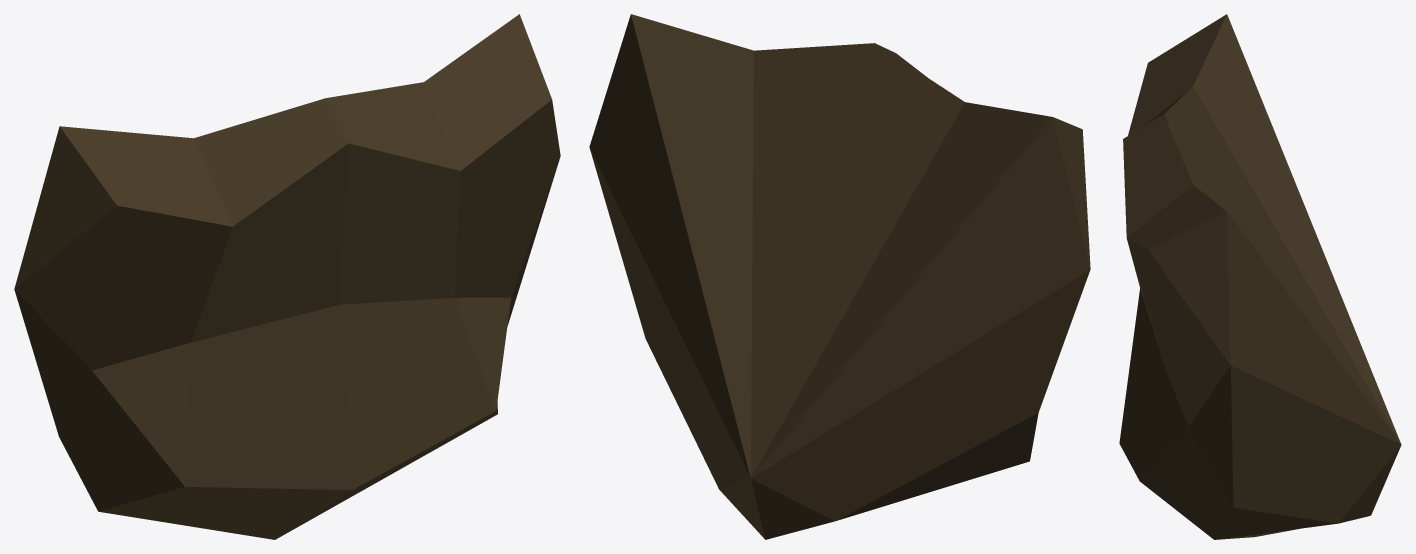
Rendered from Chr_FacialHair_Male_07_Static.fbx.
The picture shows the model from 3 angles, left to right: view 1: azimuth 30°, elevation 25°; view 2: azimuth 150°, elevation 25°; view 3: azimuth 270°, elevation 25°; orthographic projection. The views are drawn at different scales.
Parts seen in each view (by area): view 1: Chr_FacialHair_Male_07_Static; view 2: Chr_FacialHair_Male_07_Static; view 3: Chr_FacialHair_Male_07_Static.
Boxes of the visible parts, left/top/right/bottom form: Chr_FacialHair_Male_07_Static: left=14, top=14, right=560, bottom=539; Chr_FacialHair_Male_07_Static: left=589, top=14, right=1090, bottom=539; Chr_FacialHair_Male_07_Static: left=1119, top=14, right=1401, bottom=539.
Bounding box in the file's own units: 0.085 × 0.0716 × 0.0432.
